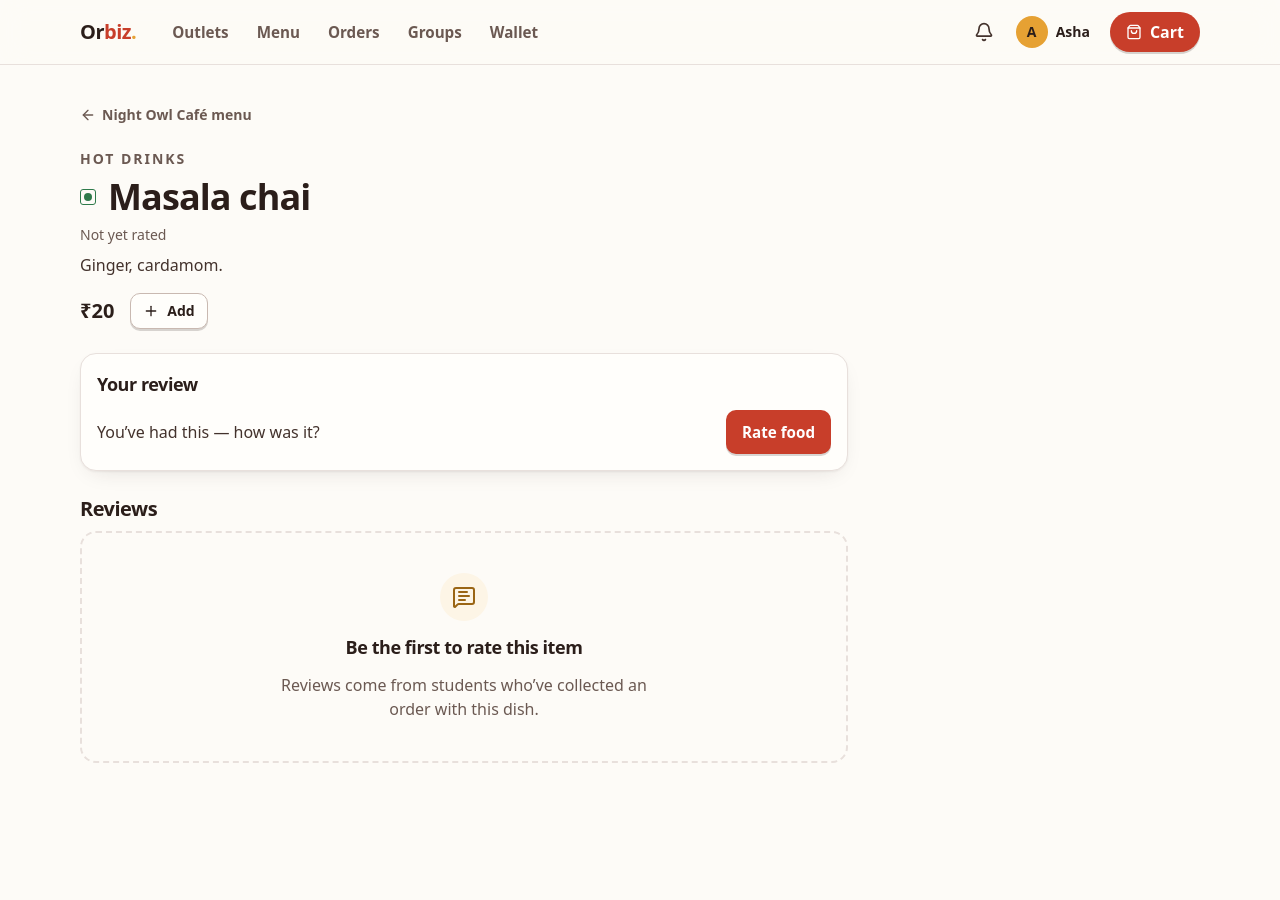
Test case: writing a review › shows the server’s refusal in the form
Click the button "Rate food": {"x": 778, "y": 432} [726, 410, 831, 454]
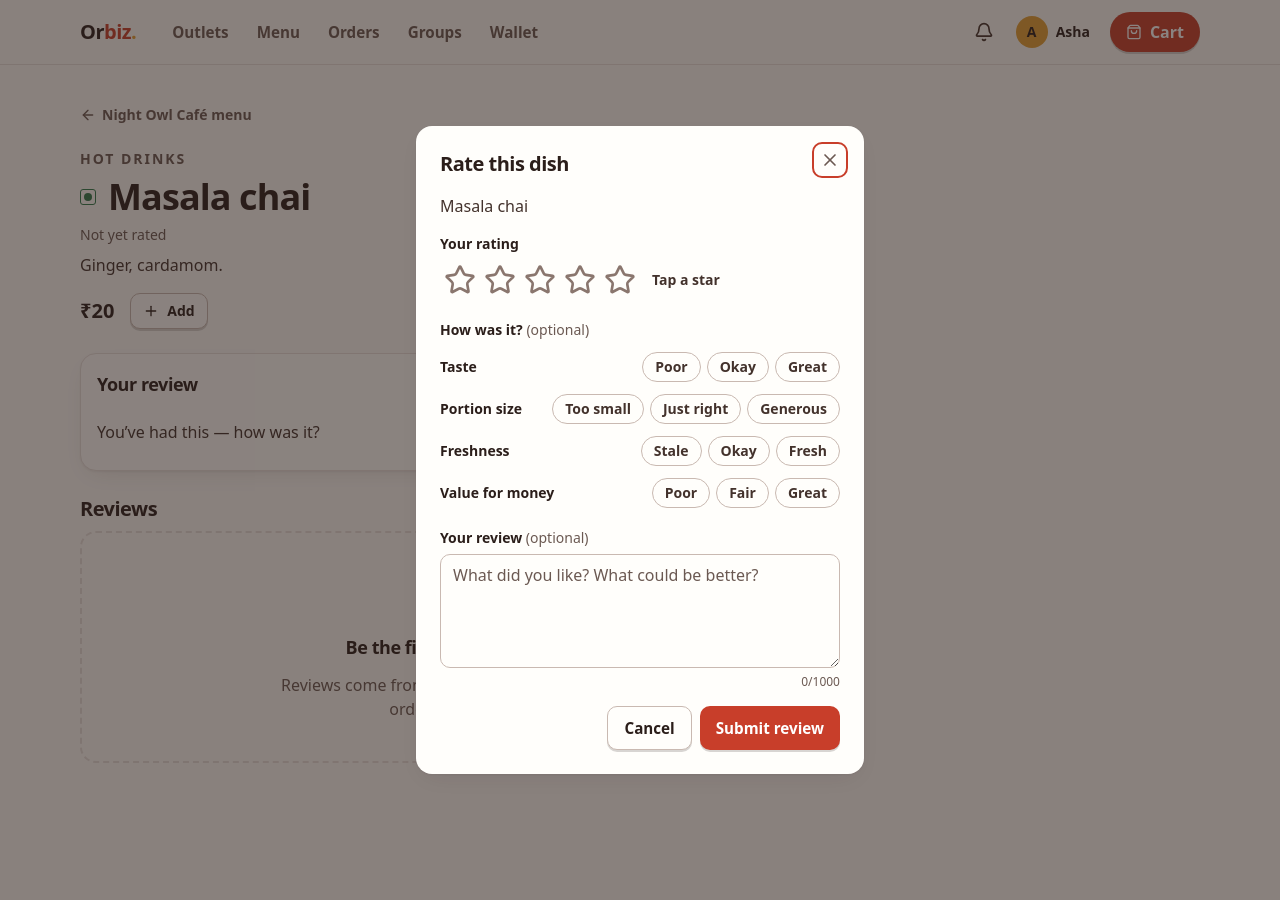
Click the radio button named "3 stars: Average": {"x": 540, "y": 280} [520, 260, 560, 300]
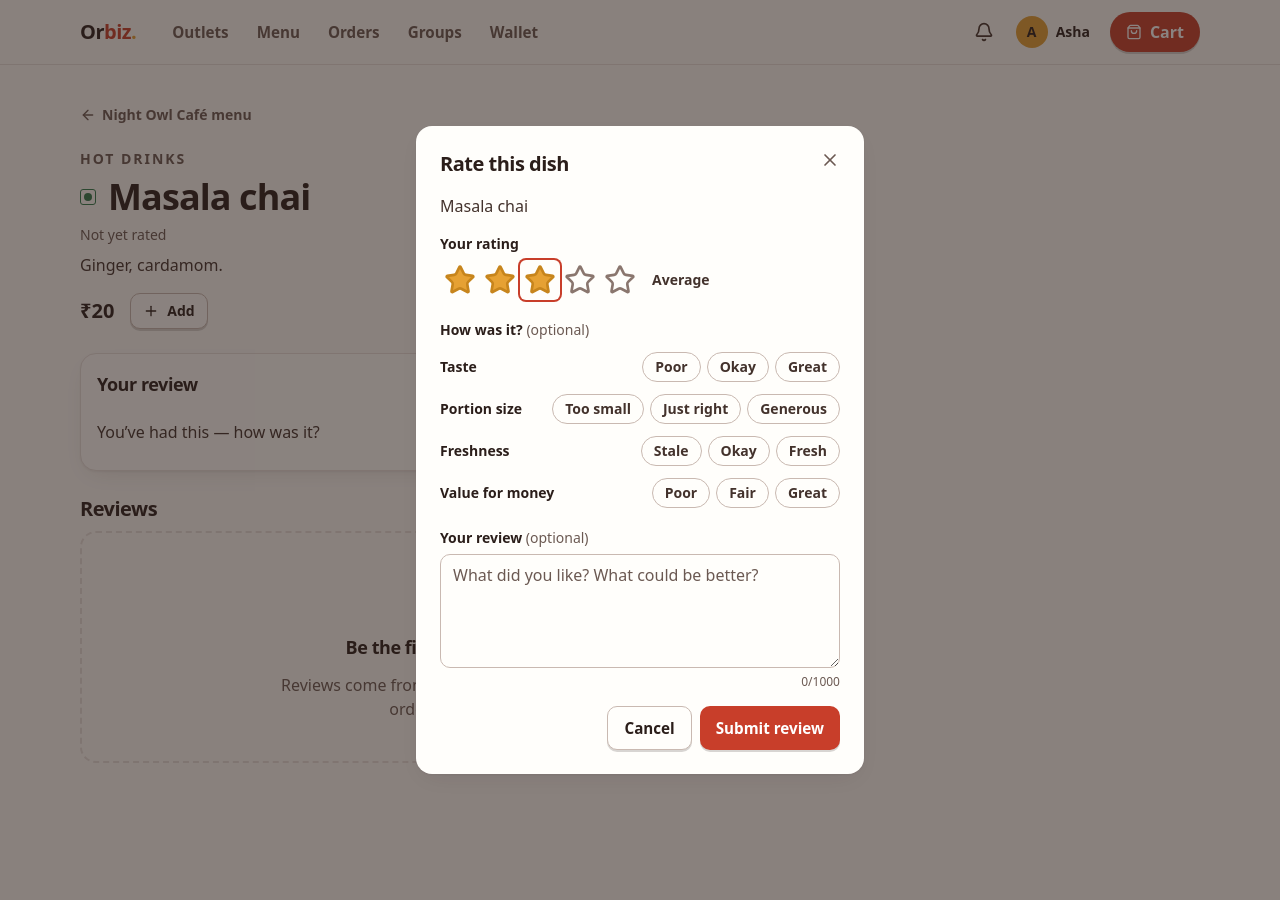
Click the button "Submit review": {"x": 770, "y": 728} [700, 706, 840, 750]
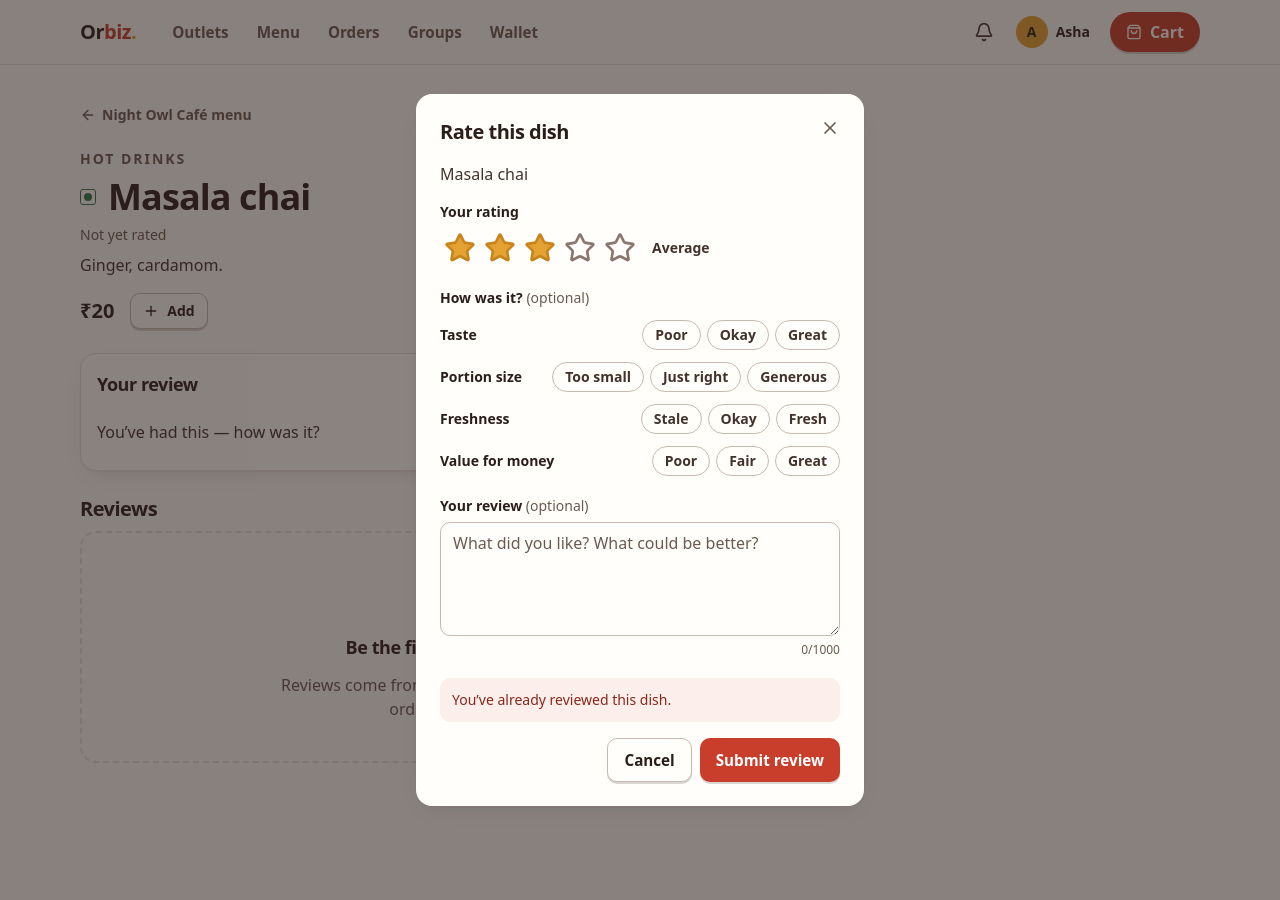
Check: the message reads "You’ve already reviewed this dish.", box [452, 690, 671, 709]
